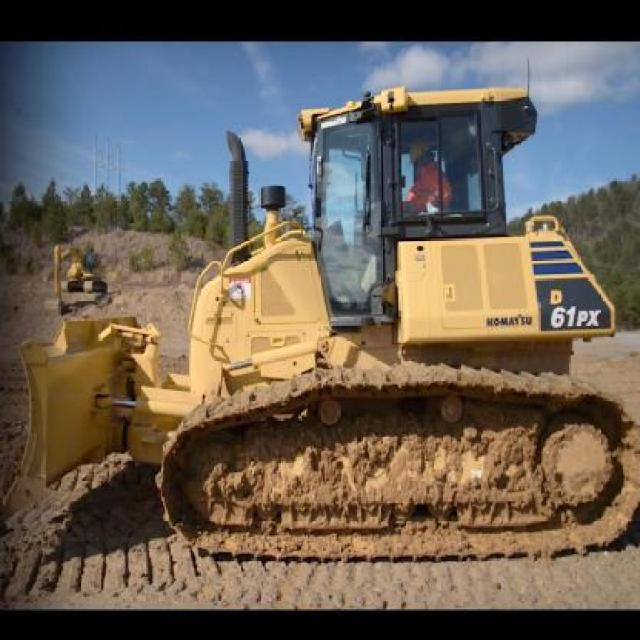excavator: (46, 248, 108, 317)
